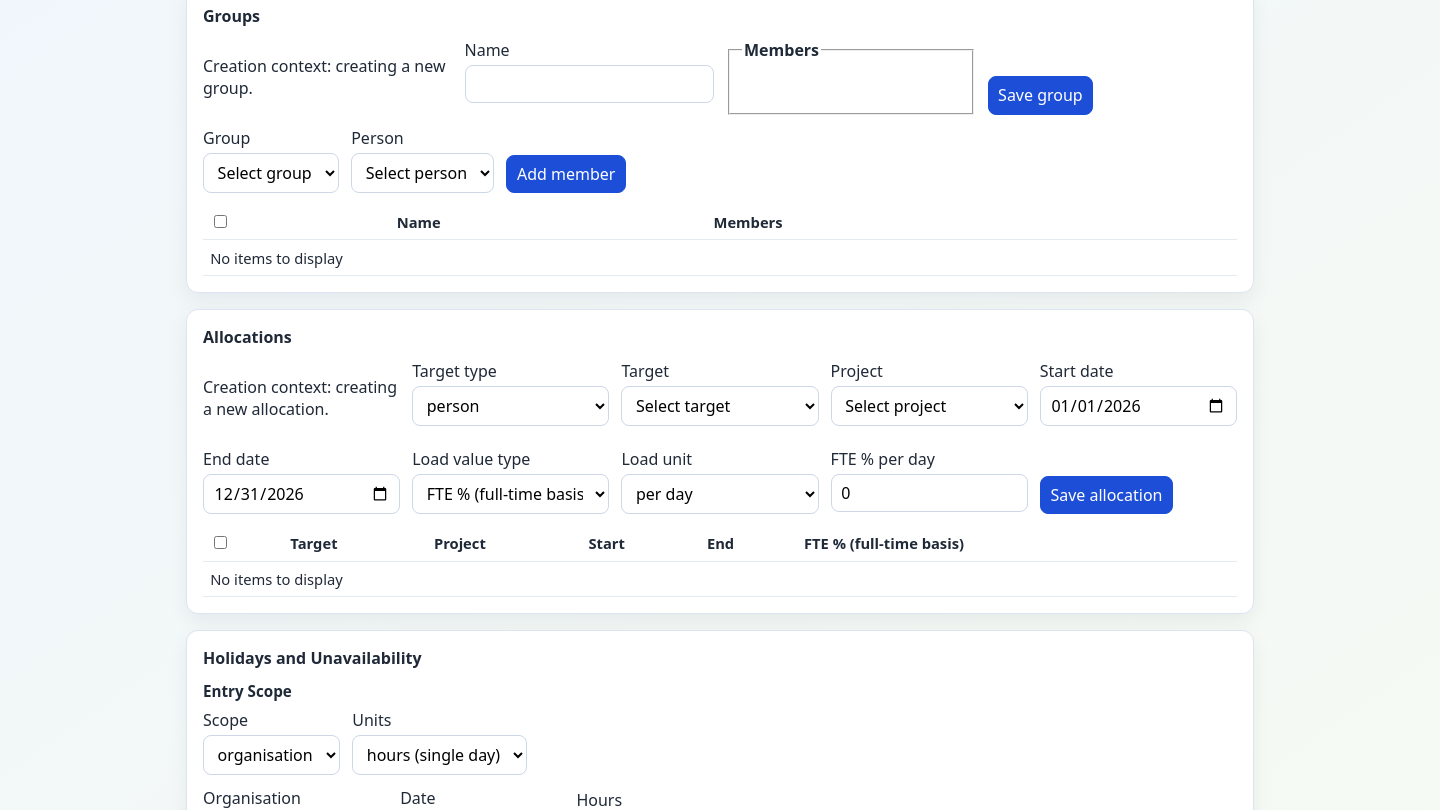
Test: App focused behaviors › updates allocation date inputs and toggles row and select-all checkboxes
The image size is (1440, 810).
(page scrolled)
Type "2026-02-01" into the date field labelled "Start date". click: (1138, 406)
box: [1040, 386, 1237, 426]
(page scrolled)
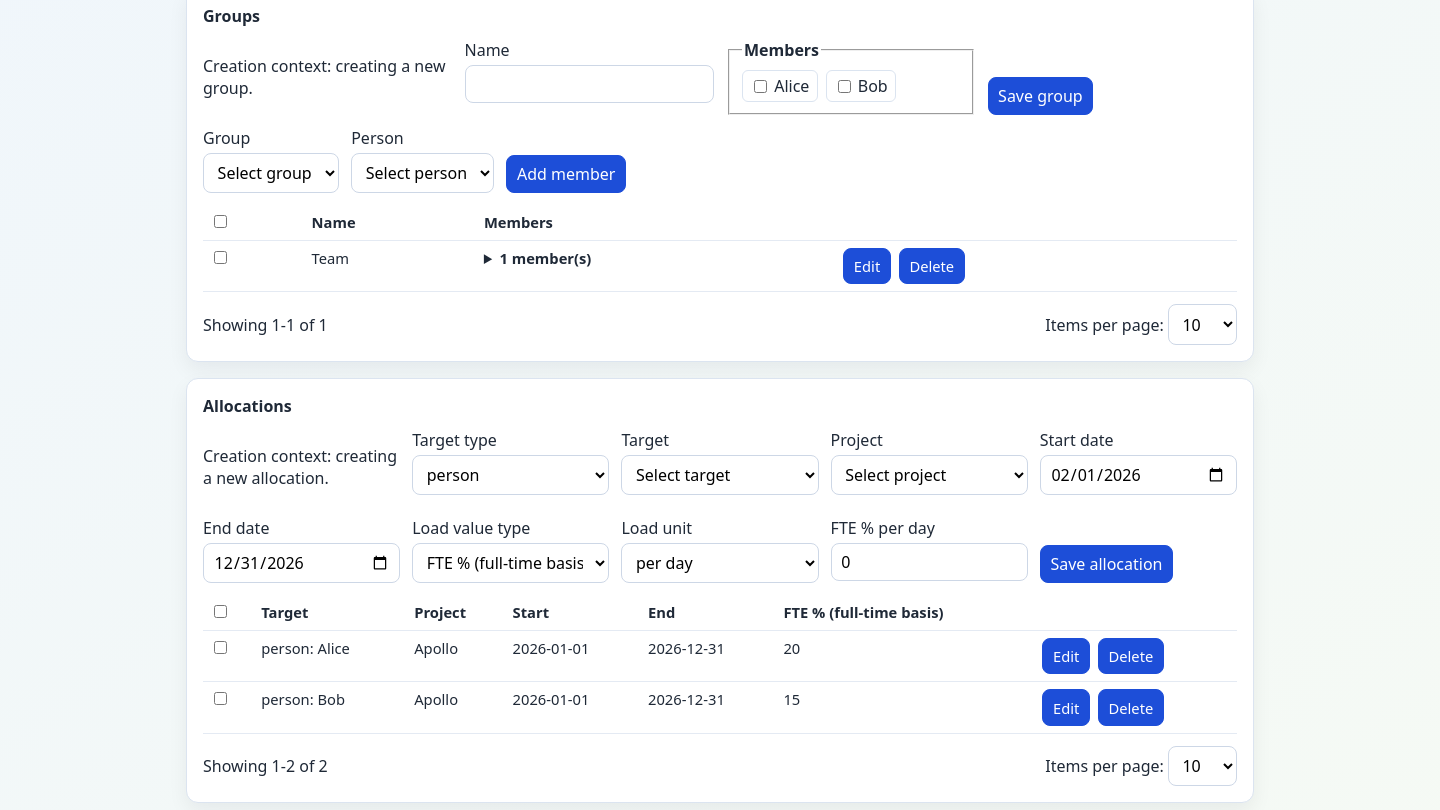
Type "2026-11-30" into the date field labelled "End date". click: (302, 563)
box: [203, 543, 400, 583]
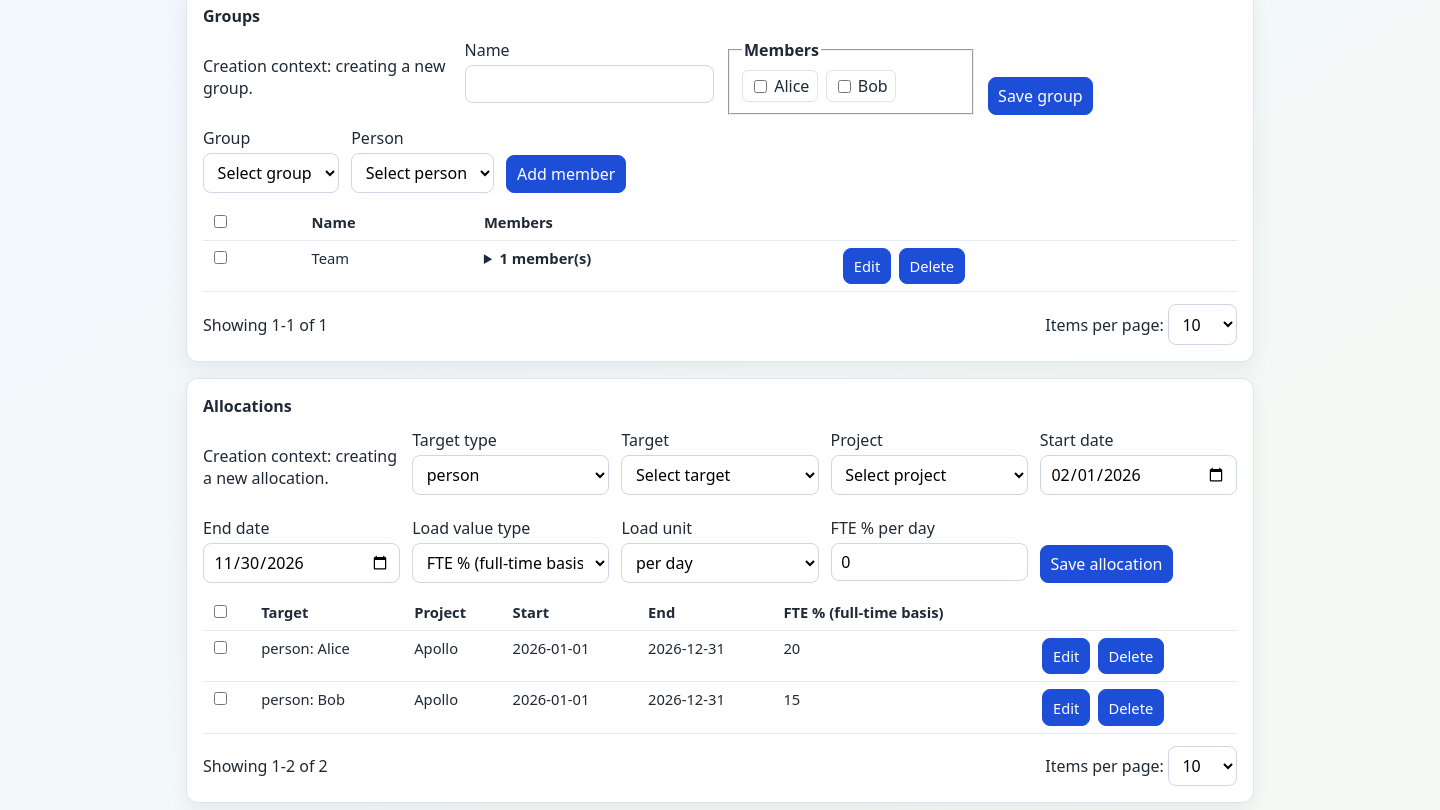
Click the checkbox named "select allocation allocation_1". click: (221, 647)
box: [214, 641, 227, 654]
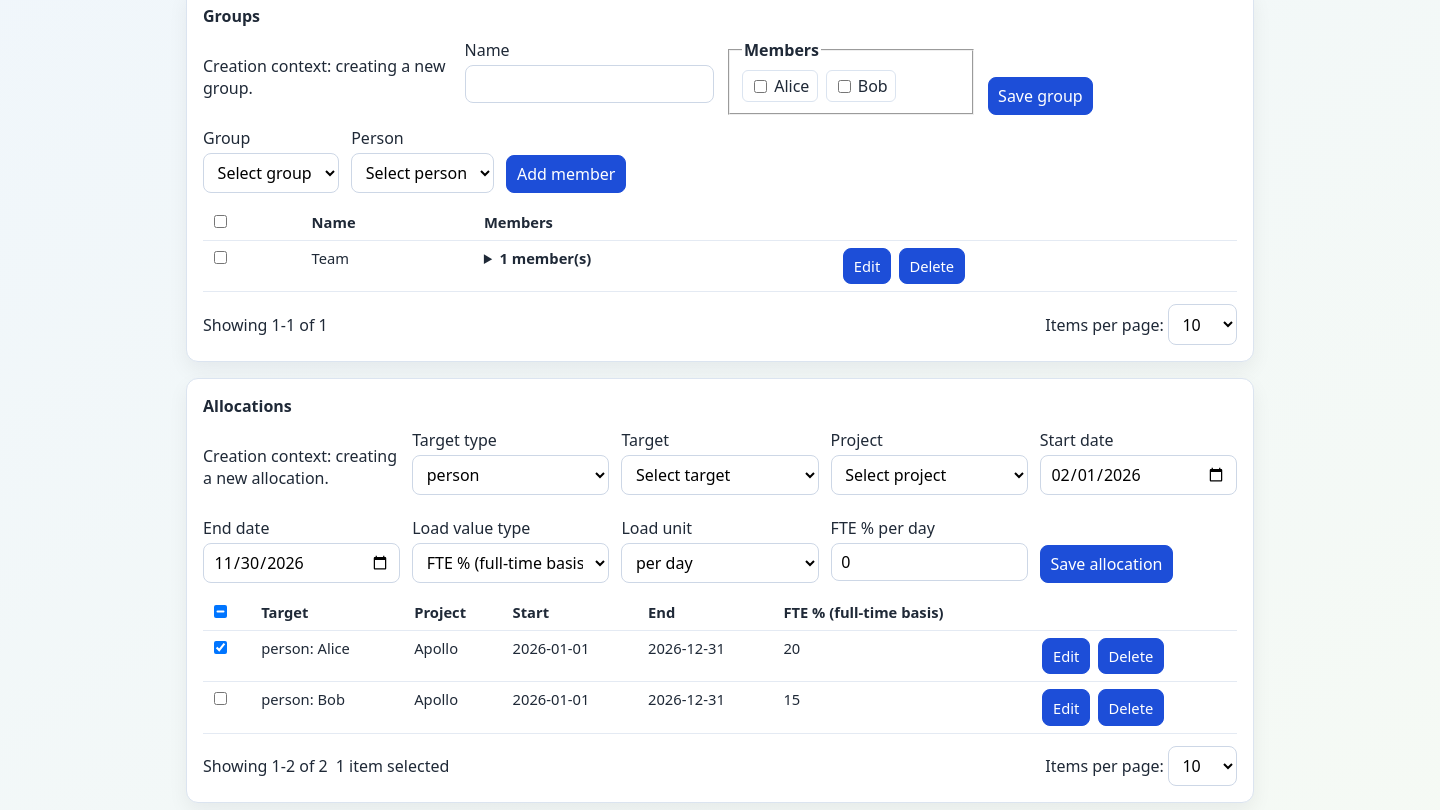
Expected: the checkbox named "select allocation allocation_1" is checked
Click the checkbox named "select allocation allocation_1". click: (221, 647)
box: [214, 641, 227, 654]
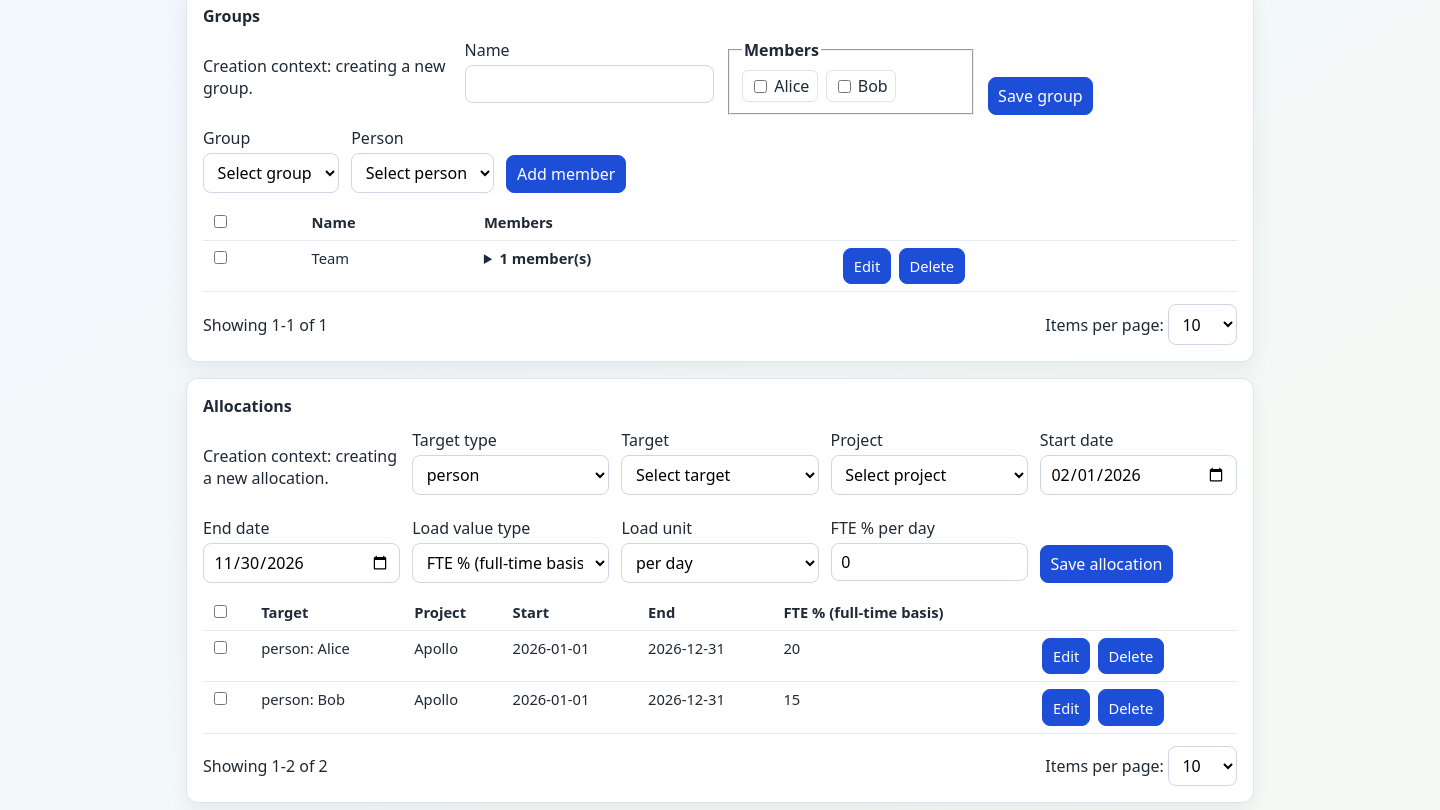
Expected: the checkbox named "select allocation allocation_1" is not checked, [214, 641, 227, 654]
Click the checkbox named "select all allocations". click: (221, 612)
box: [214, 605, 227, 618]
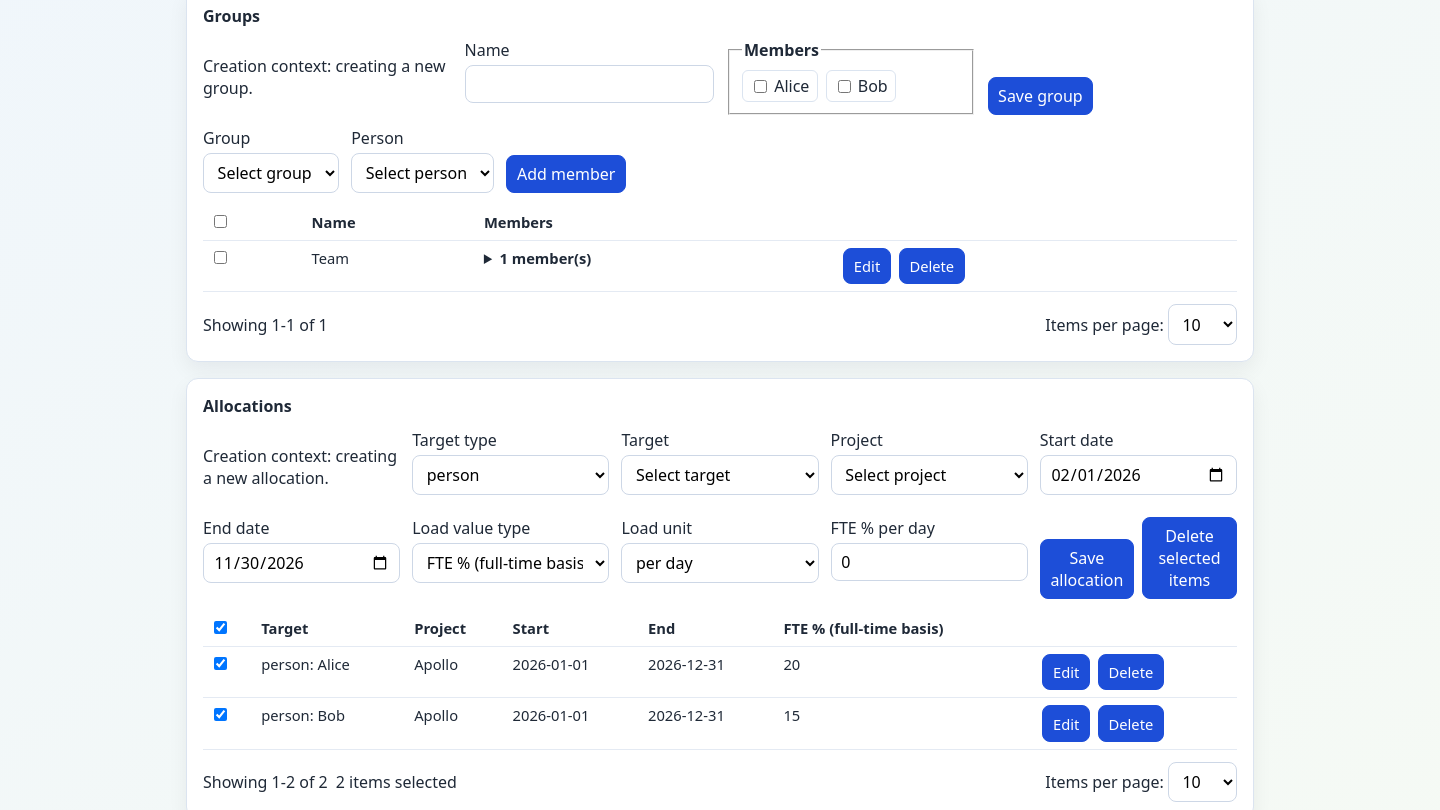
Expected: the checkbox named "select allocation allocation_1" is checked, [214, 657, 227, 670]
Expected: the checkbox named "select allocation allocation_2" is checked, [214, 708, 227, 721]
Click the checkbox named "select all allocations". click: (221, 628)
box: [214, 621, 227, 634]
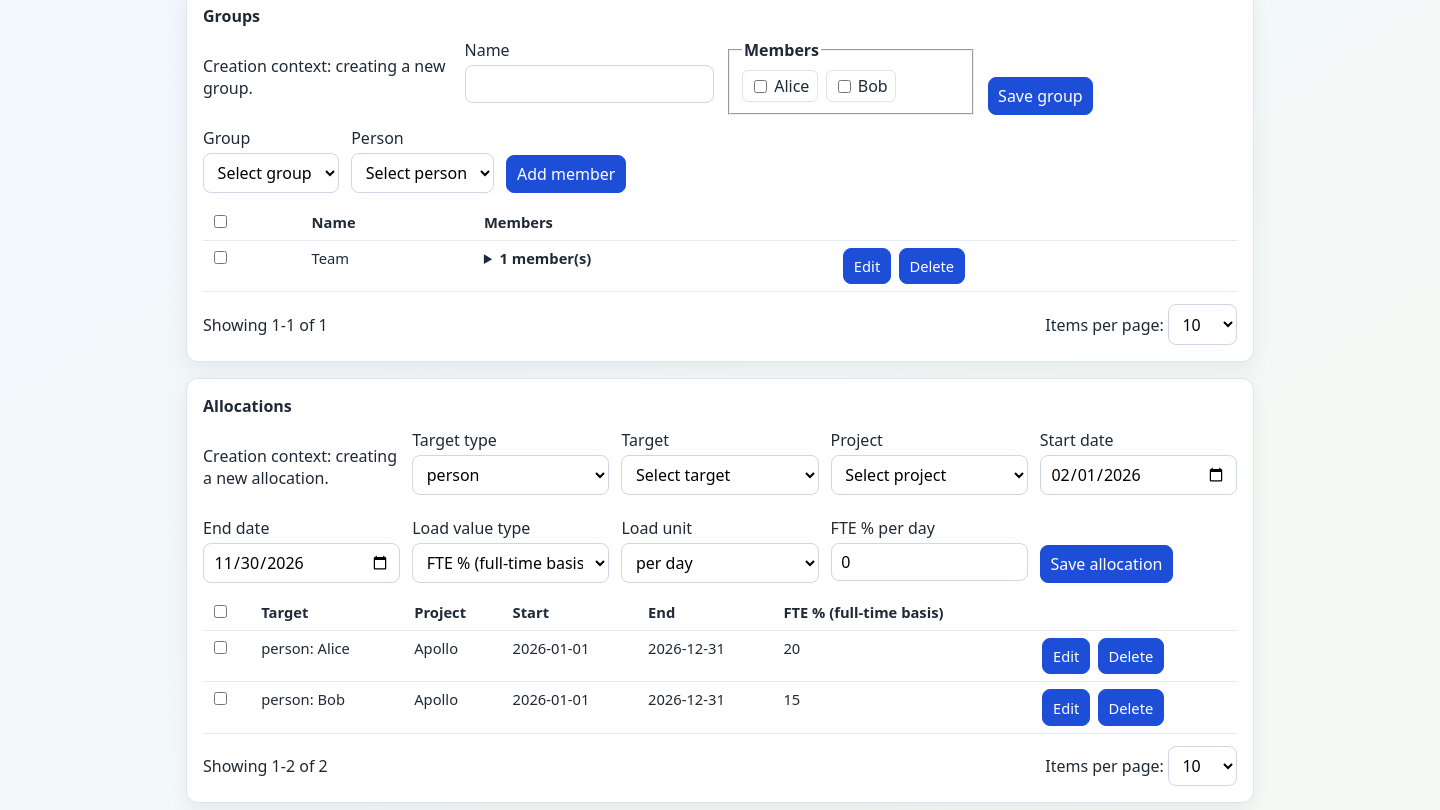
Expected: the checkbox named "select allocation allocation_1" is not checked, [214, 641, 227, 654]
Expected: the checkbox named "select allocation allocation_2" is not checked, [214, 692, 227, 705]
